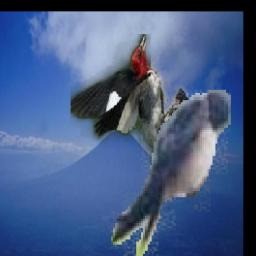Swallow: (111, 90, 231, 256)
Woodpecker: (71, 34, 188, 172)
